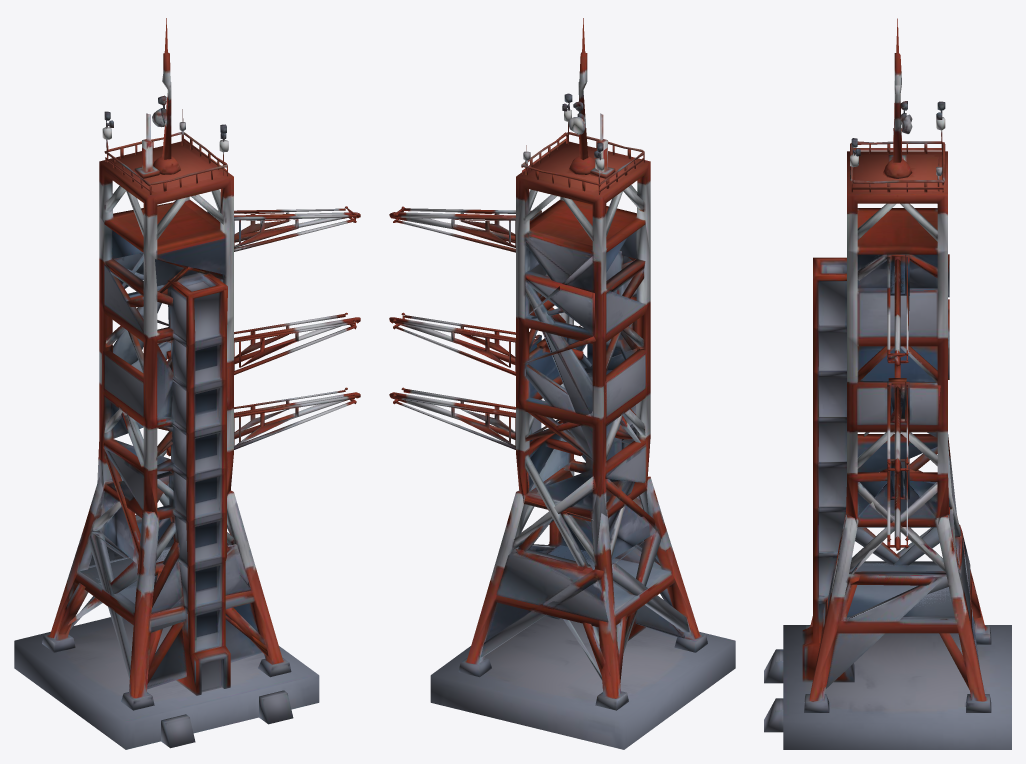
File: original_glb.glb
The picture shows the model from 3 angles, left to right: view 1: azimuth 30°, elevation 25°; view 2: azimuth 150°, elevation 25°; view 3: azimuth 270°, elevation 25°; orthographic projection. The views are drawn at different scales.
Visible parts, largest first — view 1: Service Tower; view 2: Service Tower; view 3: Service Tower.
Boxes of the visible parts, x1,y1,x2,y2 form: Service Tower: (14,18,360,749); Service Tower: (389,18,735,749); Service Tower: (764,18,1011,749).
Bounding box in the file's own units: 0.4512 × 0.998 × 0.3262.
1 material, 1 textured.
